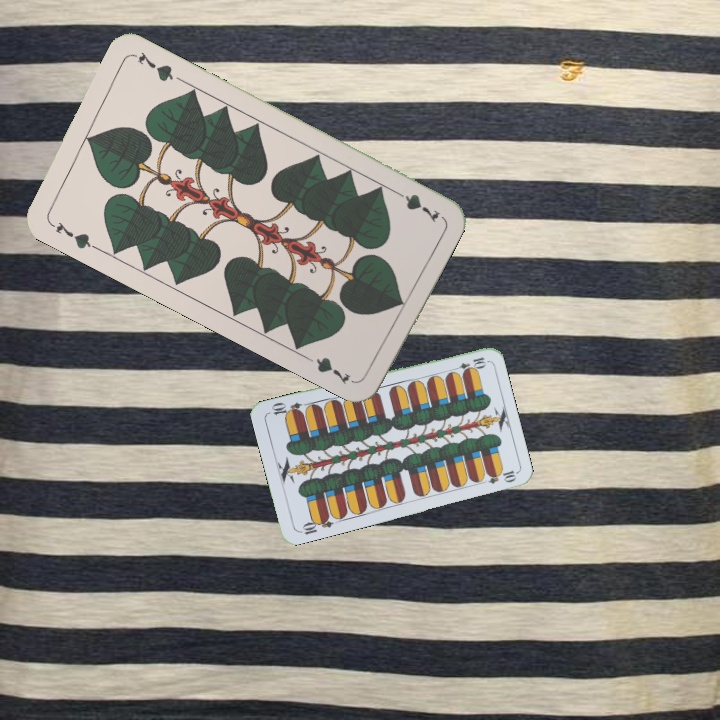E10: (295, 512, 335, 537), (448, 353, 488, 375)
G7: (388, 185, 442, 226), (45, 217, 99, 252)
